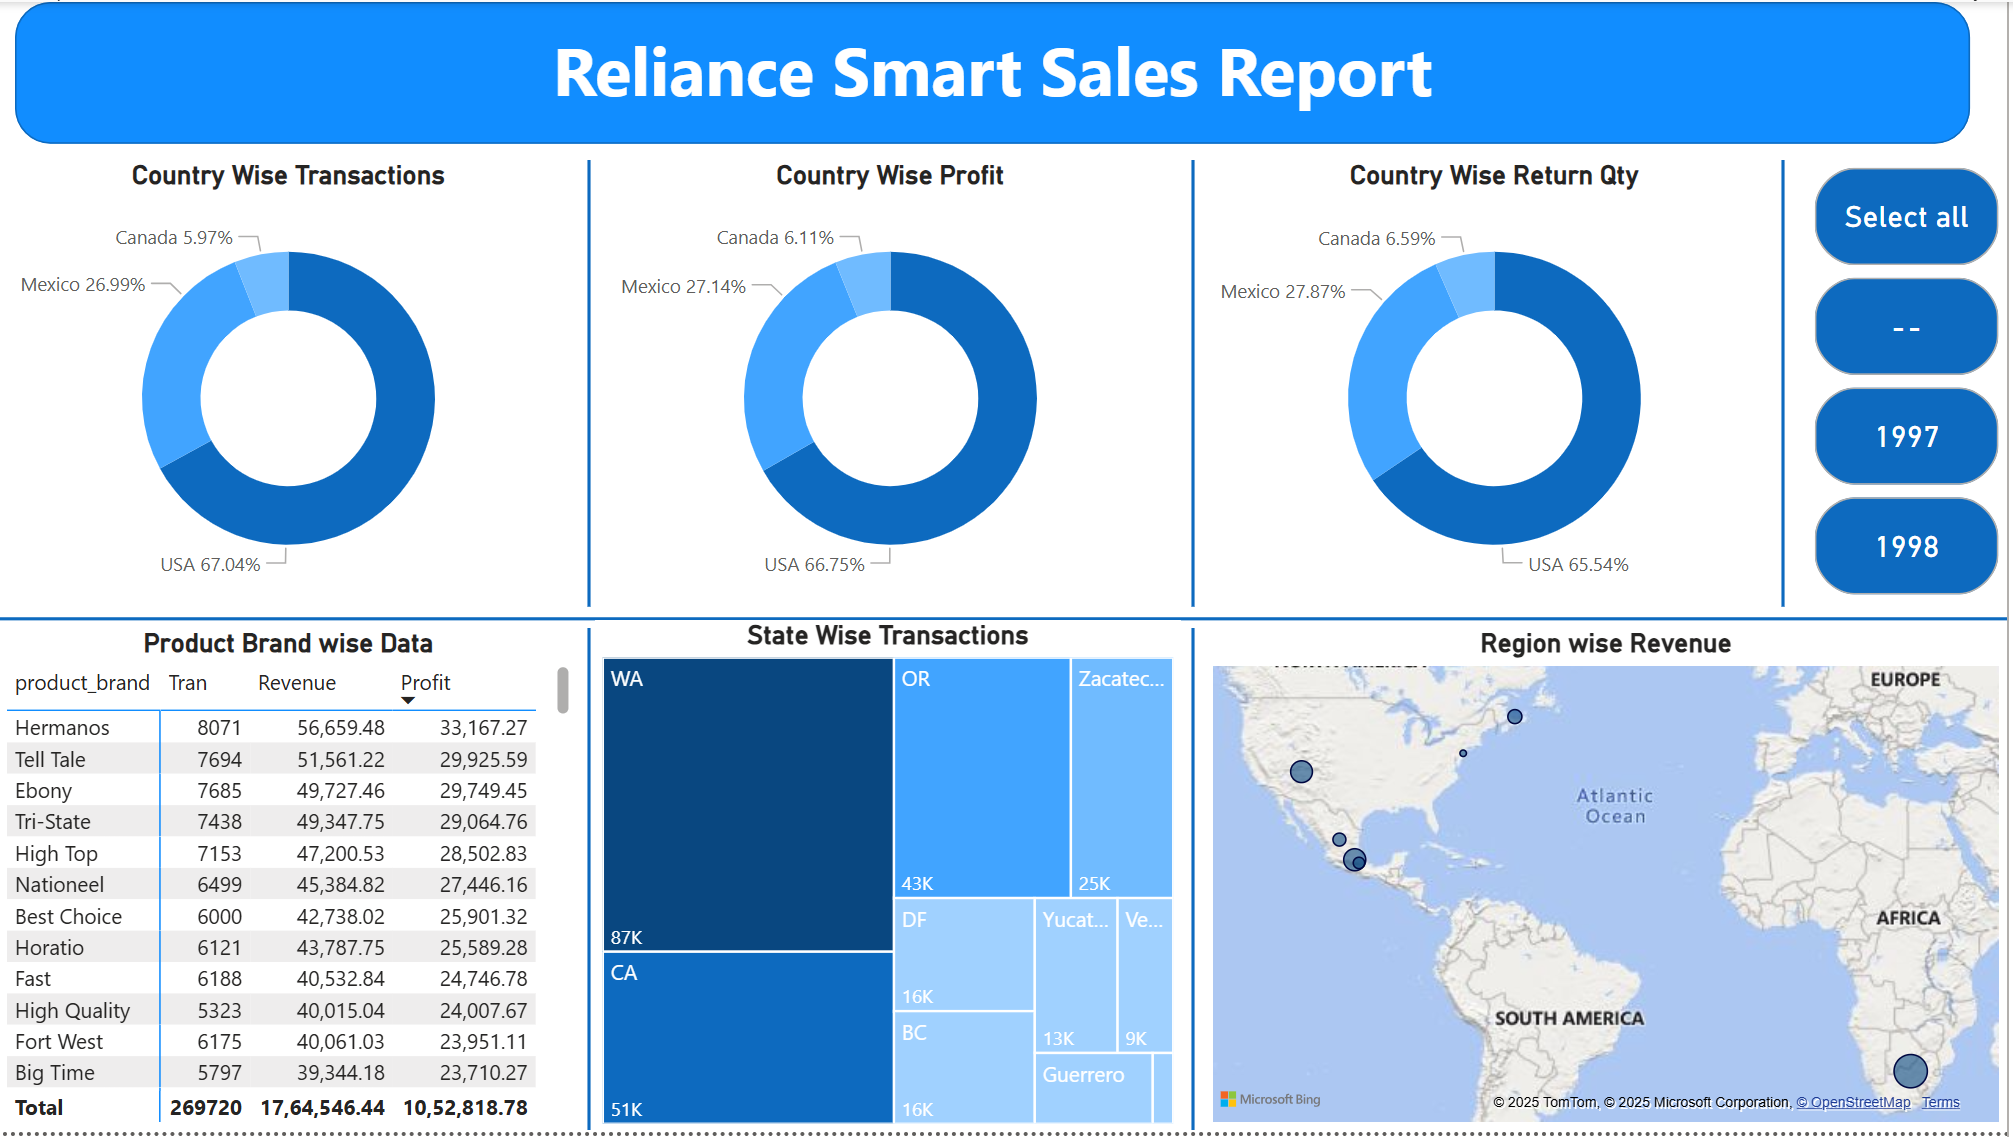

What the dashboard file says about the page in this screenshot:
{"tool":"powerbi","page":{"name":"HomeWork","canvas":[1280,720],"ordinal":1},"visuals":[{"type":"shape","box":[10.7,0,1246.3,90.3],"z":0},{"type":"textbox","box":[10.7,9.2,1246.3,72],"z":1000},{"type":"donutChart","title":"Country Wise Transactions","fields":{"Category":["d_Stores.store_country"],"Y":["Measure Table.M_Total_Transactions"]},"box":[0,101.1,369,284.8],"z":2000},{"type":"donutChart","title":"Country Wise Profit","fields":{"Category":["d_Stores.store_country"],"Y":["Measure Table.M_Total_Profit"]},"box":[384.3,101.1,369,284.8],"z":3000},{"type":"shape","box":[369,101.1,15.3,284.8],"z":4000},{"type":"shape","box":[753.3,101.1,15.3,284.8],"z":5000},{"type":"donutChart","title":"Country Wise Return Qty","fields":{"Category":["d_Stores.store_country"],"Y":["Measure Table.M_Total_Returns"]},"box":[768.6,101.1,369,284.8],"z":6000},{"type":"shape","box":[1130,101.1,15.3,284.8],"z":7000},{"type":"advancedSlicerVisual","fields":{"Values":["d_Calendar.Year"]},"box":[1152.9,101.1,127.1,284.8],"z":8000},{"type":"shape","box":[0,385.8,1280,13.8],"z":9000},{"type":"pivotTable","title":"Product Brand wise Data","fields":{"Rows":["d_Products.product_brand"],"Values":["Measure Table.M_Total_Transactions","Measure Table.M_Total_Revenue","Measure Table.M_Total_Profit"]},"box":[0,399.6,369,320],"z":10000},{"type":"shape","box":[369,399.6,15.3,320],"z":11000},{"type":"treemap","title":"State Wise Transactions","fields":{"Group":["d_Stores.store_state"],"Values":["Measure Table.M_Total_Transactions"]},"box":[379.7,393.5,373.6,326.1],"z":12000},{"type":"shape","box":[753.3,399.6,15.3,320],"z":13000},{"type":"map","title":"Region wise Revenue","fields":{"Category":["d_Regions.sales_region"],"Size":["Measure Table.M_Total_Revenue"]},"box":[768.6,399.6,511.4,320],"z":14000}]}

Visuals, with their boxes in screenshot pixels (x1, y1, x2, y2), scaled from the page's 1280x720 canvas onto the 2013x1137 screenshot:
shape: <box>17,0,1977,143</box>
textbox: <box>17,15,1977,128</box>
"Country Wise Transactions" donutChart: <box>0,160,580,609</box>
"Country Wise Profit" donutChart: <box>604,160,1185,609</box>
shape: <box>580,160,604,609</box>
shape: <box>1185,160,1209,609</box>
"Country Wise Return Qty" donutChart: <box>1209,160,1789,609</box>
shape: <box>1777,160,1801,609</box>
advancedSlicerVisual - d_Calendar.Year: <box>1813,160,2012,609</box>
shape: <box>0,609,2012,631</box>
"Product Brand wise Data" pivotTable: <box>0,631,580,1136</box>
shape: <box>580,631,604,1136</box>
"State Wise Transactions" treemap: <box>597,621,1185,1136</box>
shape: <box>1185,631,1209,1136</box>
"Region wise Revenue" map: <box>1209,631,2012,1136</box>
